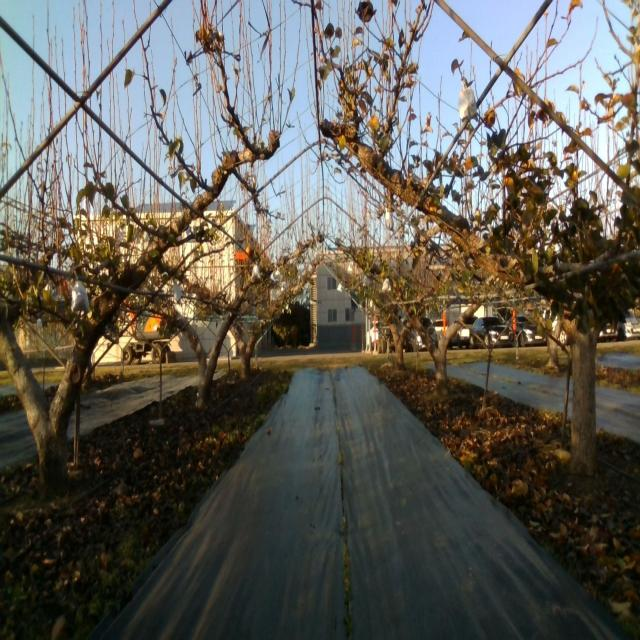pearbags: (458, 80, 478, 122), (71, 280, 91, 314), (384, 207, 394, 233), (172, 283, 182, 305)
